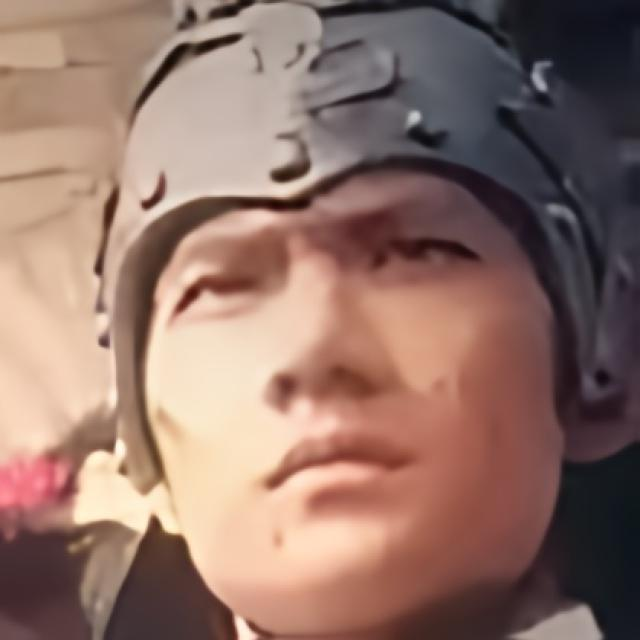anger: (146, 168, 566, 634)
